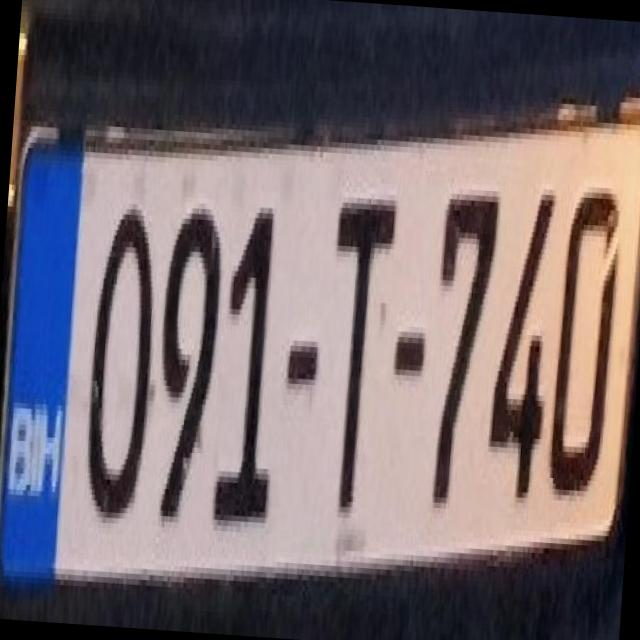0: (536, 157, 636, 508), (73, 179, 166, 520)
1: (205, 178, 285, 523)
4: (481, 169, 566, 504)
7: (413, 170, 511, 500)
9: (138, 184, 230, 514)
T: (303, 174, 407, 526)
